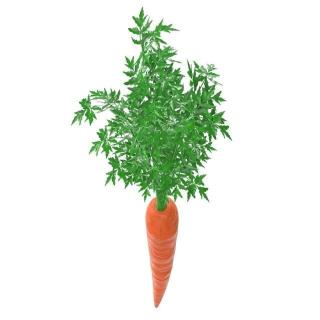carrot: (146, 195, 178, 312)
